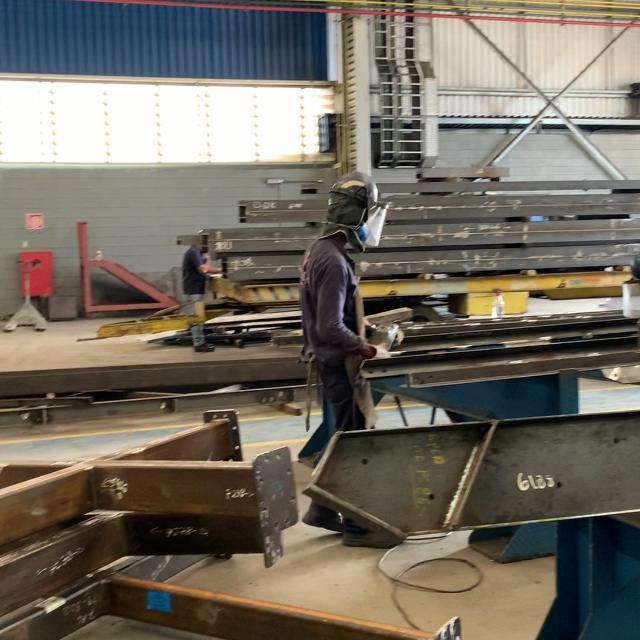eye-glass: (361, 201, 385, 246)
glove: (329, 181, 380, 196)
mask: (297, 179, 387, 416)
safety-shoe: (341, 506, 409, 547), (301, 496, 342, 528)
